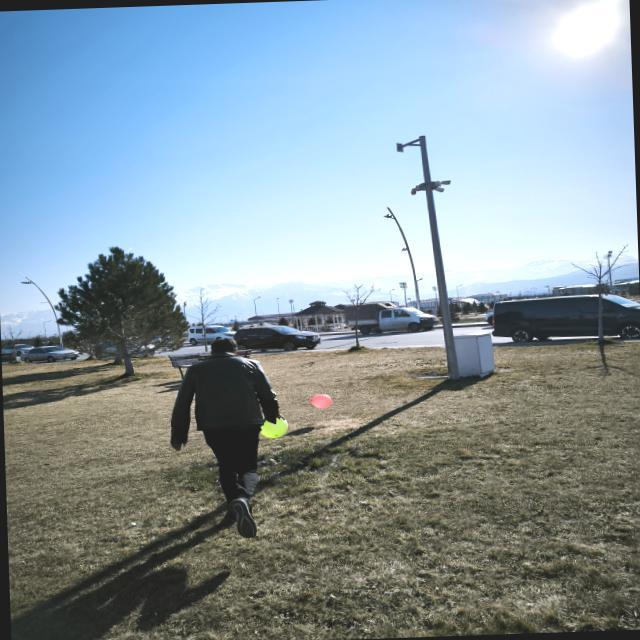balloon: (260, 418, 287, 438), (310, 394, 331, 408)
